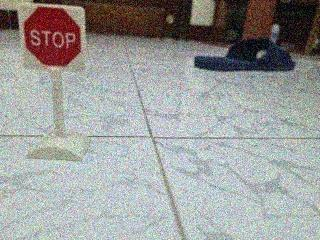stop: (13, 0, 97, 84)
